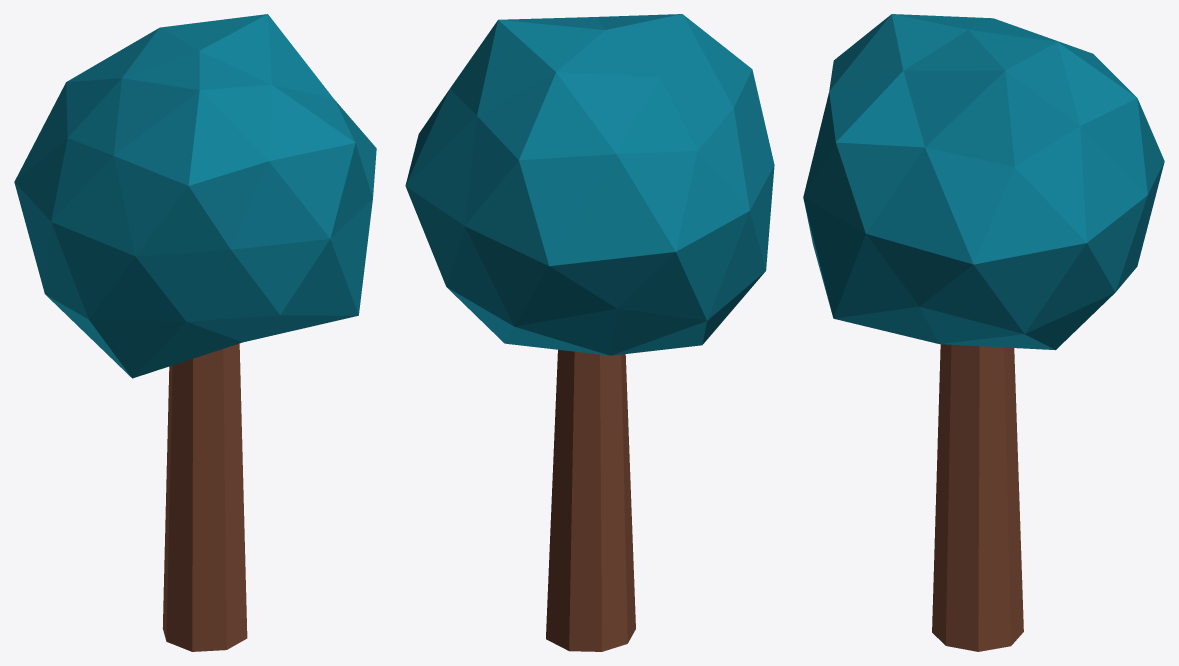
The model's file is Tree_04_summer_blue_vc.fbx.
3 renders of one model, left to right at view 1: azimuth 30°, elevation 25°; view 2: azimuth 150°, elevation 25°; view 3: azimuth 270°, elevation 25°, orthographic. The views are drawn at different scales.
Visible parts, largest first — view 1: Tree_04_summer_blue_vc; view 2: Tree_04_summer_blue_vc; view 3: Tree_04_summer_blue_vc.
Part boxes in pixels (x1,y1,x2,y2): Tree_04_summer_blue_vc: [14, 14, 376, 651]; Tree_04_summer_blue_vc: [405, 14, 774, 651]; Tree_04_summer_blue_vc: [803, 14, 1164, 651].
Bounding box in the file's own units: 111 × 193 × 105.
